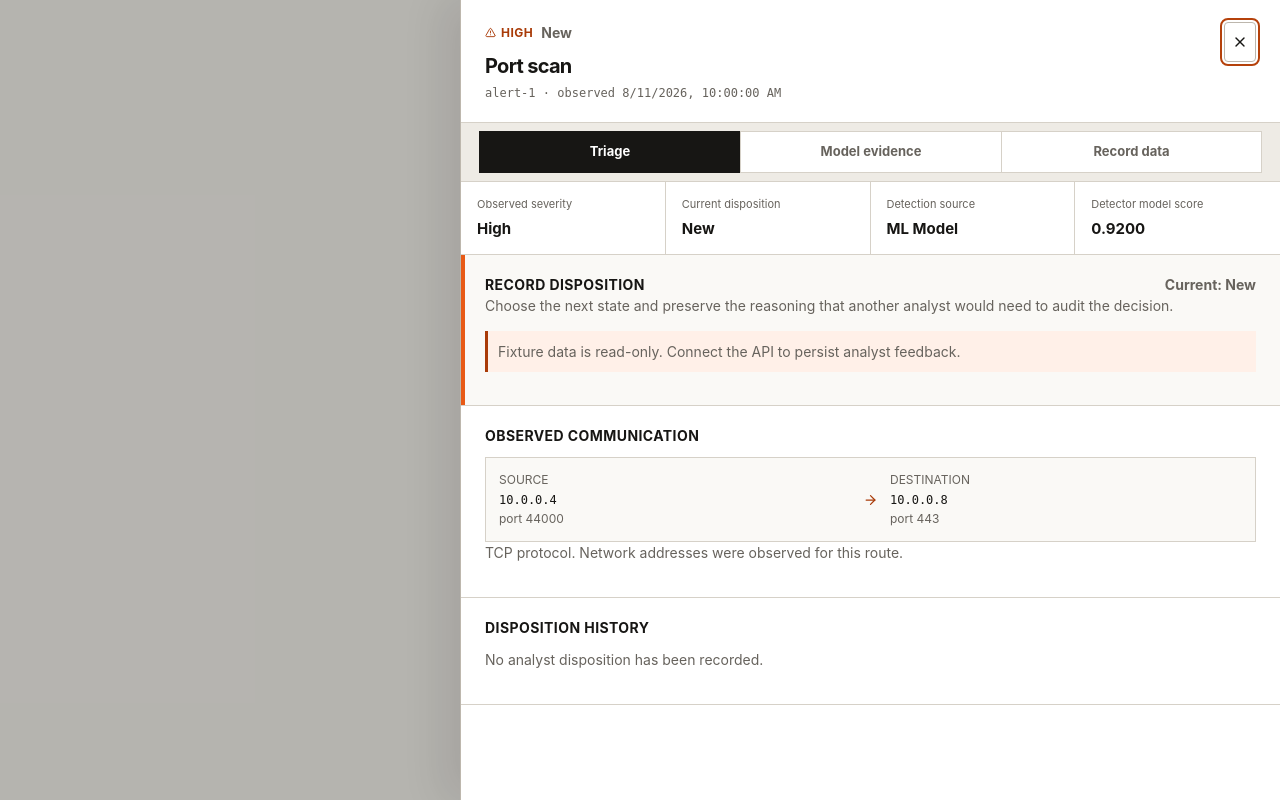
Test: AlertInvestigationView › organizes triage, model evidence, and record provenance as keyboard tabs
Check: the heading "Observed communication" is shown, box 485,427 -> 699,444
What coordinates should you click on to do the following:
click the tab "Record data"
I would click on:
 (1132, 152)
Its box is 1001,131 -> 1262,173.
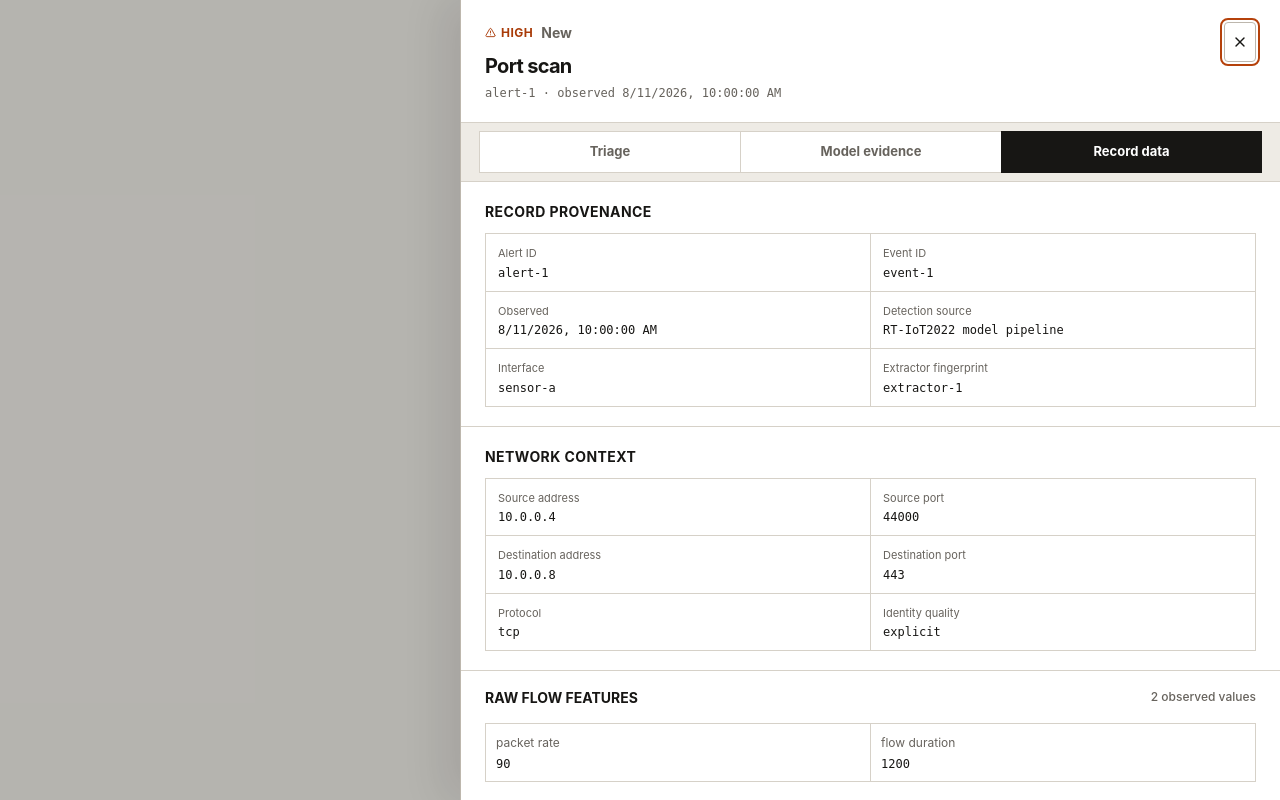
Check: the heading "Record provenance" is shown, box 485,203 -> 652,220
Check: the text "event-1" is shown, box 883,266 -> 934,280
Check: the text "extractor-1" is shown, box 883,380 -> 962,394
